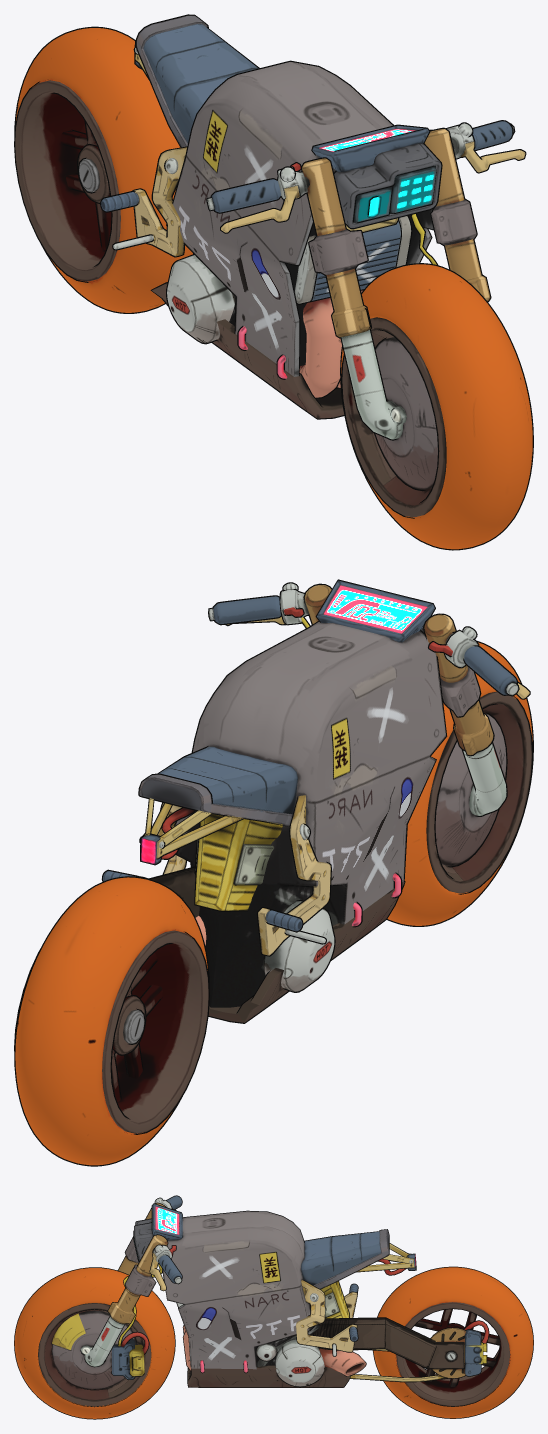
Rendered from bike.glb.
The picture shows the model from 3 angles, top to bottom: view 1: azimuth 30°, elevation 25°; view 2: azimuth 150°, elevation 25°; view 3: azimuth 270°, elevation 25°; orthographic projection. The views are drawn at different scales.
Visible parts, largest first — view 1: Object_2, Object_3; view 2: Object_2, Object_3; view 3: Object_2, Object_3.
Part boxes in pixels (x1,y1,x2,y2): Object_2: [15, 15, 532, 549]; Object_3: [14, 14, 533, 550]; Object_2: [15, 580, 532, 1165]; Object_3: [14, 579, 533, 1166]; Object_2: [14, 1196, 533, 1418]; Object_3: [14, 1195, 533, 1419].
Size of the model in its own units: 1.1 by 1.24 by 2.92.
Materials: 2 (2 with a texture image).
